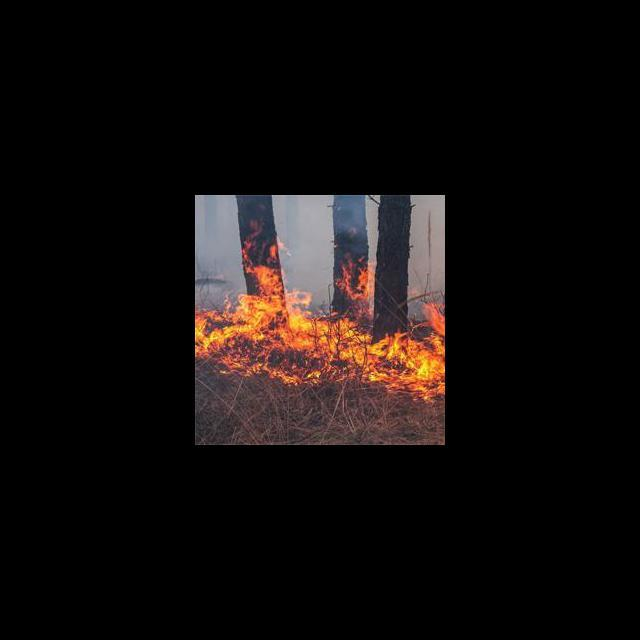Fire: (196, 249, 445, 400)
